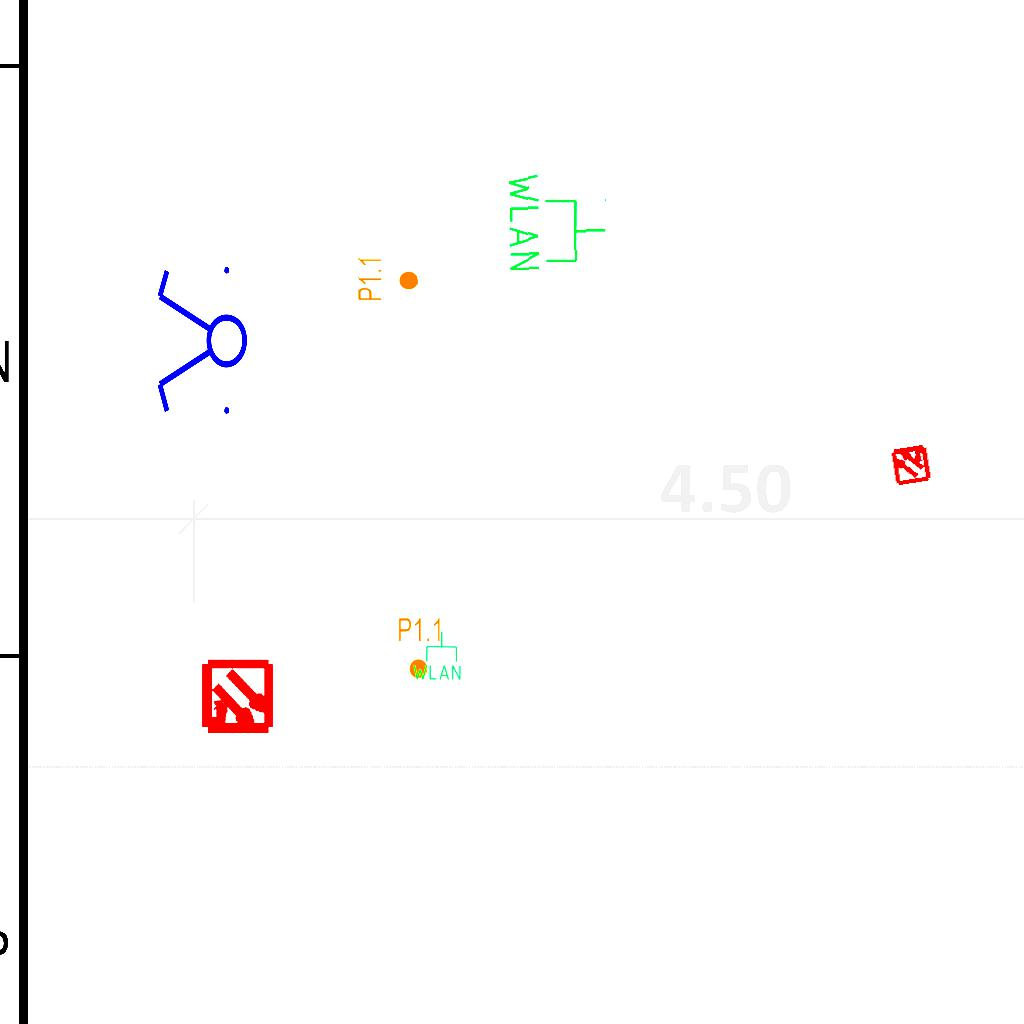Downlight_LED_Einbauleuchten_Flur: (355, 255, 421, 303), (397, 616, 443, 680)
OT_Multisensormelder_(Kombination_RMO_WMD): (181, 642, 294, 755), (878, 431, 944, 497)
Serienschalter: (153, 258, 249, 426)
WLAN: (504, 168, 610, 275), (411, 630, 463, 682)
